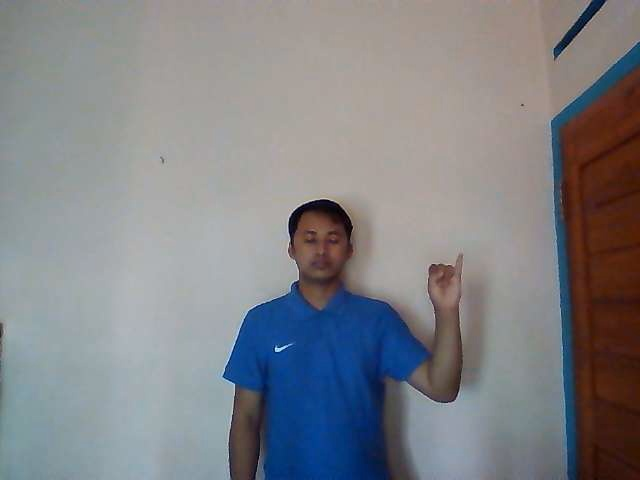I: (427, 253, 464, 308)
